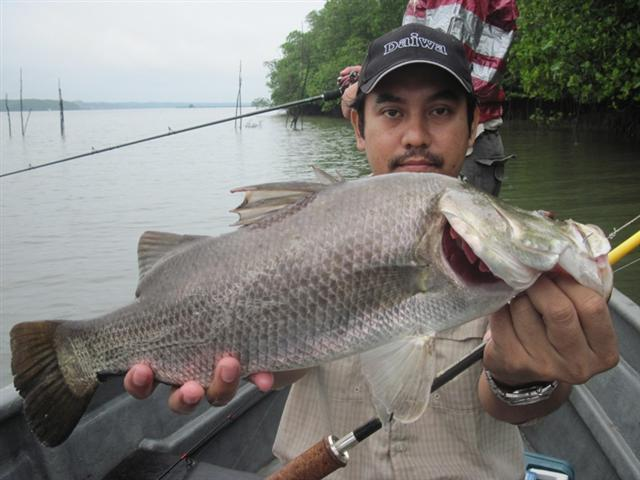Sirip Dada: (323, 252, 445, 332)
Sirip Ekor: (0, 306, 130, 462)
Sirip Perut: (352, 324, 448, 437)
Sirip Punggung: (122, 158, 364, 304)
